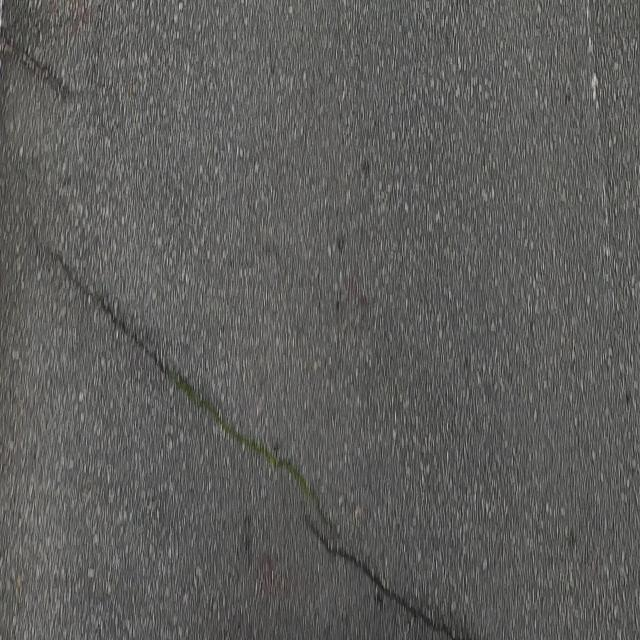Retak-Melintang: (38, 245, 458, 640), (0, 21, 77, 112)
